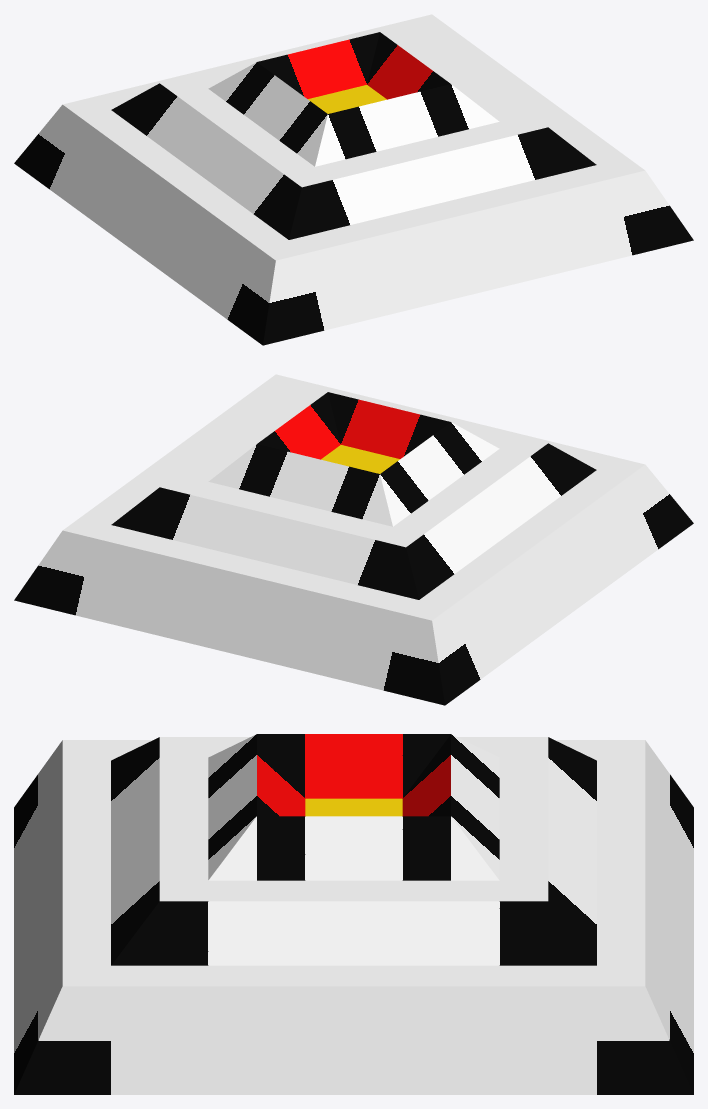
File: input_pane.obj
3 renders of one model, top to bottom at view 1: azimuth 30°, elevation 25°; view 2: azimuth 150°, elevation 25°; view 3: azimuth 270°, elevation 25°, orthographic. The views are drawn at different scales.
Visible parts, largest first — view 1: Cube; view 2: Cube; view 3: Cube.
Part boxes in pixels (x1,y1,x2,y2): Cube: (14, 14, 693, 345); Cube: (14, 374, 693, 705); Cube: (14, 734, 693, 1094).
Size of the model in its own units: 0.875 by 0.25 by 0.875.
